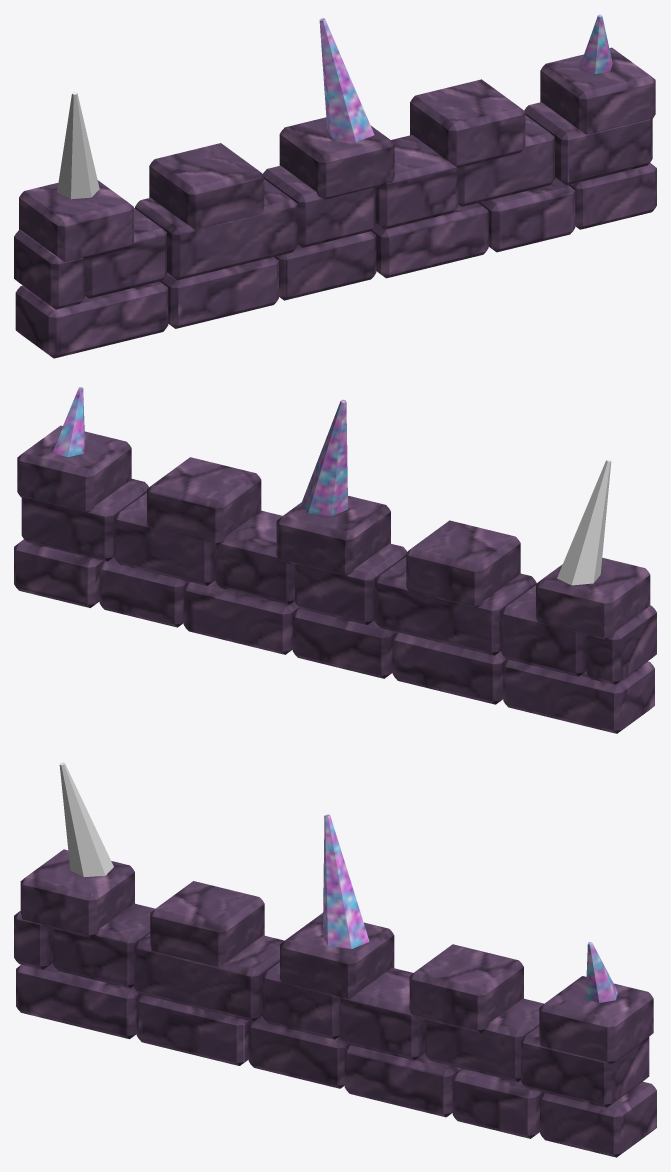
The model's file is mapkit_low_crystal.fbx.
3 views of the same model, one above another, from view 1: azimuth 30°, elevation 25°; view 2: azimuth 150°, elevation 25°; view 3: azimuth 330°, elevation 25° (orthographic).
Parts seen in each view (by area): view 1: Body, c_115_230_255; view 2: Body, c_115_230_255; view 3: Body, c_115_230_255.
Part boxes in pixels (x1,y1,x2,y2): Body: (14,14,656,358); c_115_230_255: (57,91,99,199); Body: (14,387,656,733); c_115_230_255: (557,459,611,585); Body: (14,814,656,1157); c_115_230_255: (59,762,113,876).
Bounding box in the file's own units: 1191 × 476 × 151.
1 material, 1 textured.
